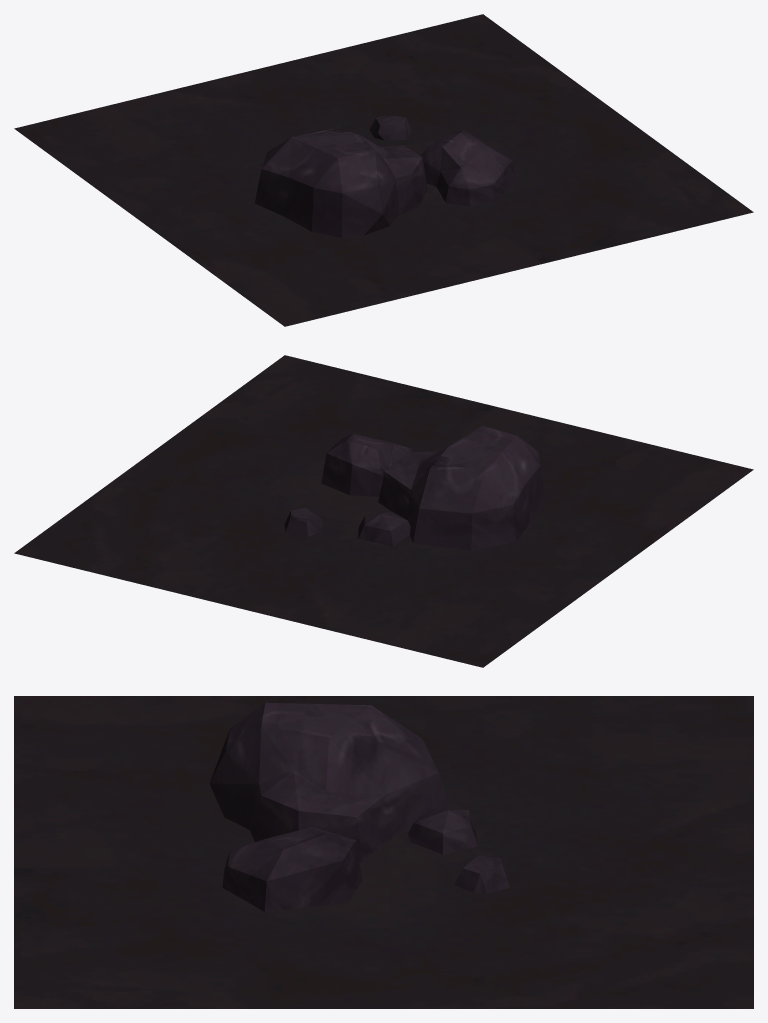
File: cave_rubble_03.fbx
3 renders of one model, top to bottom at view 1: azimuth 30°, elevation 25°; view 2: azimuth 150°, elevation 25°; view 3: azimuth 270°, elevation 25°, orthographic. The views are drawn at different scales.
Visible parts, largest first — view 1: cave_rubble_03-0; view 2: cave_rubble_03-0; view 3: cave_rubble_03-0.
Boxes of the visible parts, x1,y1,x2,y2 form: cave_rubble_03-0: (14,14,753,326); cave_rubble_03-0: (14,355,753,667); cave_rubble_03-0: (14,696,753,1008).
Bounding box in the file's own units: 4 × 0.5878 × 4.
